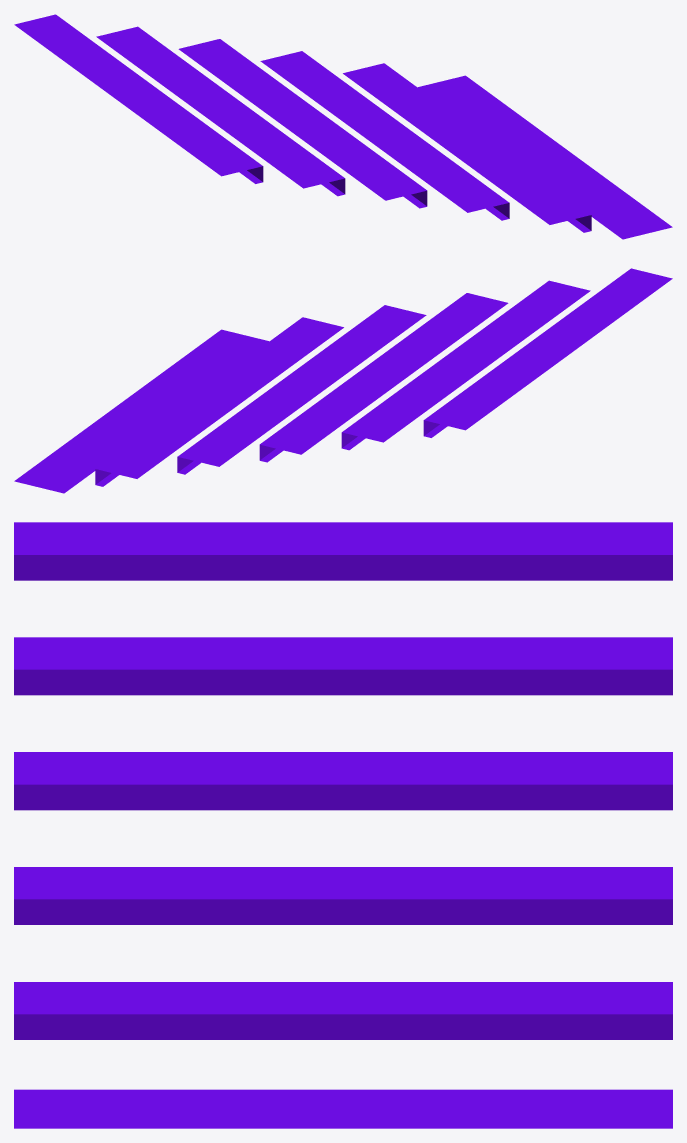
The model's file is stair_shallow_steps.FBX.
3 renders of one model, top to bottom at view 1: azimuth 30°, elevation 25°; view 2: azimuth 150°, elevation 25°; view 3: azimuth 270°, elevation 25°, orthographic. The views are drawn at different scales.
Parts seen in each view (by area): view 1: stairs; view 2: stairs; view 3: stairs.
Boxes of the visible parts, x1,y1,x2,y2 form: stairs: (14,14,672,239); stairs: (14,268,672,493); stairs: (14,522,672,1128).
Bounding box in the file's own units: 173 × 59.06 × 138.
